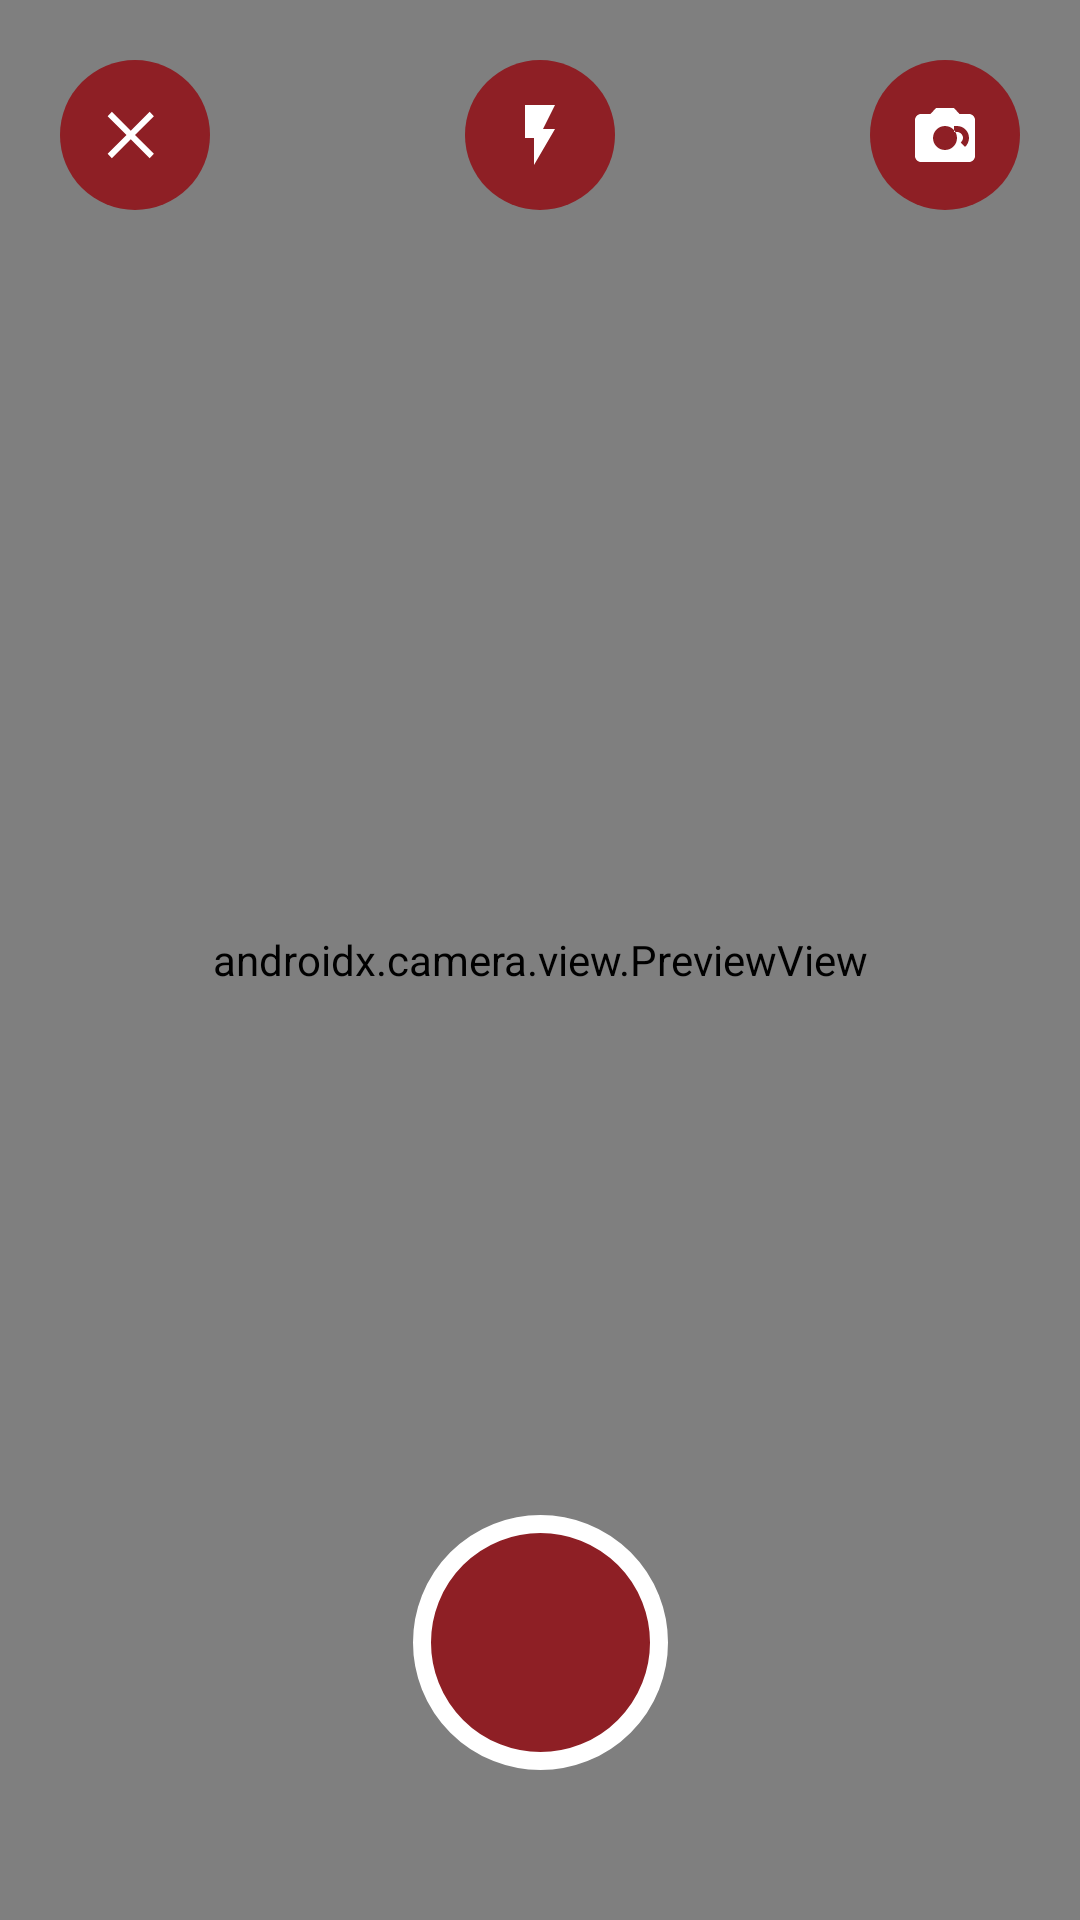

Icon bounding boxes for this 1080 × 1920 phone screenshot, format (x1, y1, x2, y2):
Alternar Flash: (465, 60, 615, 210)
camera switch: (870, 60, 1020, 210)
Voltar: (60, 60, 210, 210)
